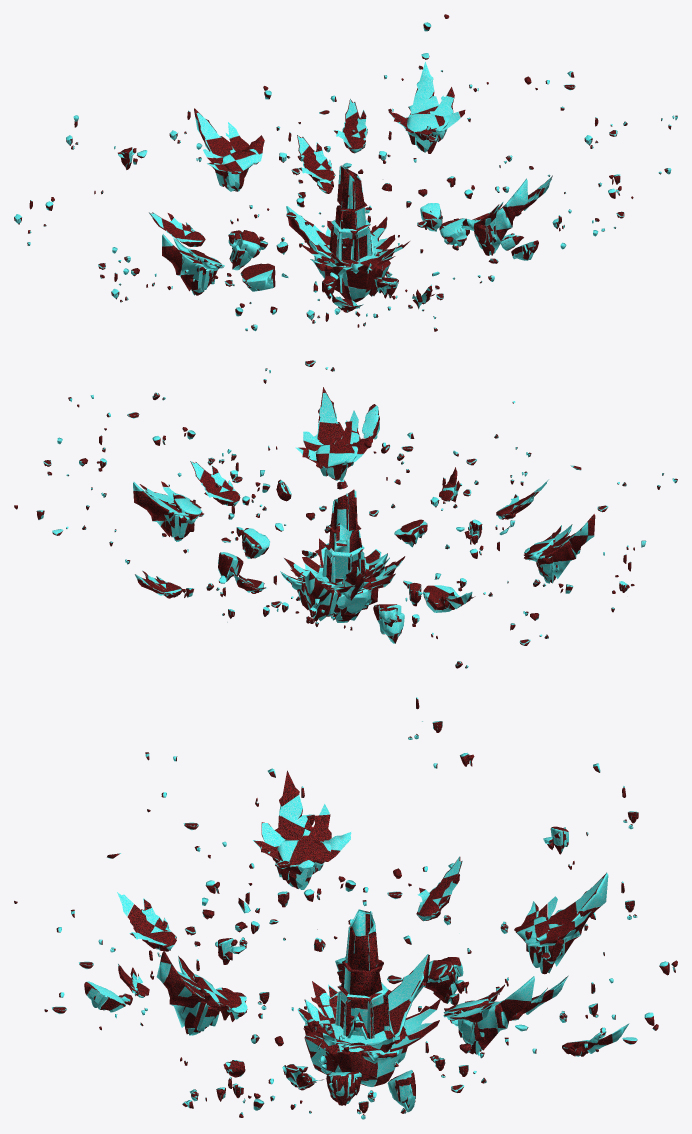
The picture shows the model from 3 angles, top to bottom: view 1: azimuth 30°, elevation 25°; view 2: azimuth 150°, elevation 25°; view 3: azimuth 270°, elevation 25°; orthographic projection. The views are drawn at different scales.
Parts seen in each view (by area): view 1: SM_Floating_Islandslow2_LOD0; view 2: SM_Floating_Islandslow2_LOD0; view 3: SM_Floating_Islandslow2_LOD0.
Part boxes in pixels (bbox=[...]): SM_Floating_Islandslow2_LOD0: bbox=[14, 14, 677, 331]; SM_Floating_Islandslow2_LOD0: bbox=[14, 360, 677, 668]; SM_Floating_Islandslow2_LOD0: bbox=[14, 697, 677, 1119].
Bounding box in the file's own units: 3197 × 846 × 2362.
1 material, 1 textured.
